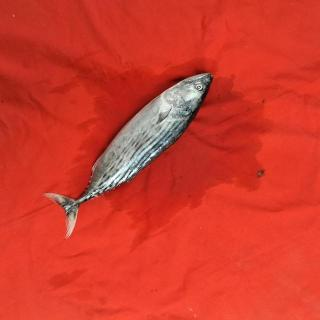Ikan: (39, 71, 215, 243)
